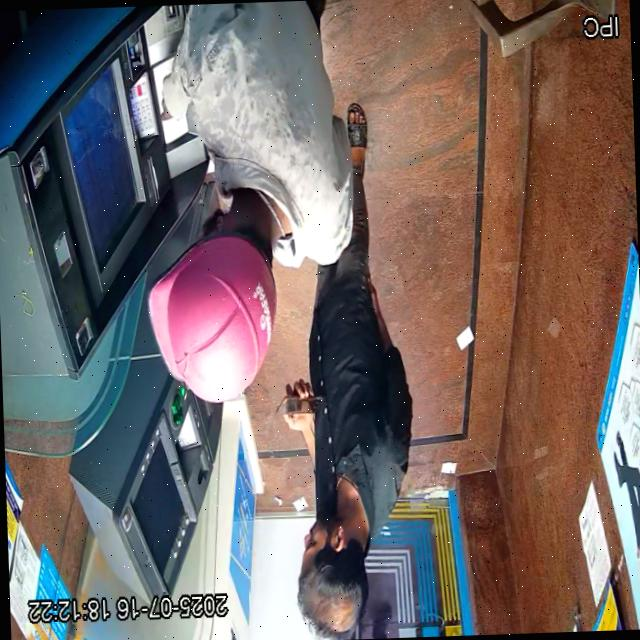helmet: (146, 190, 283, 402)
no_helmet: (296, 500, 369, 640)
